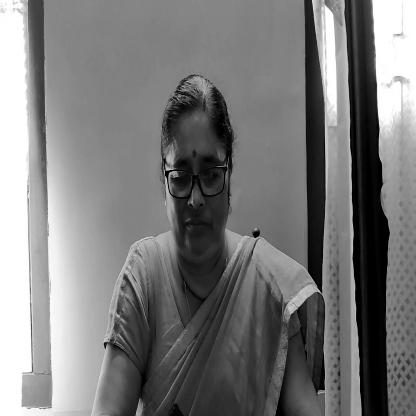Normal: (161, 68, 232, 256)
